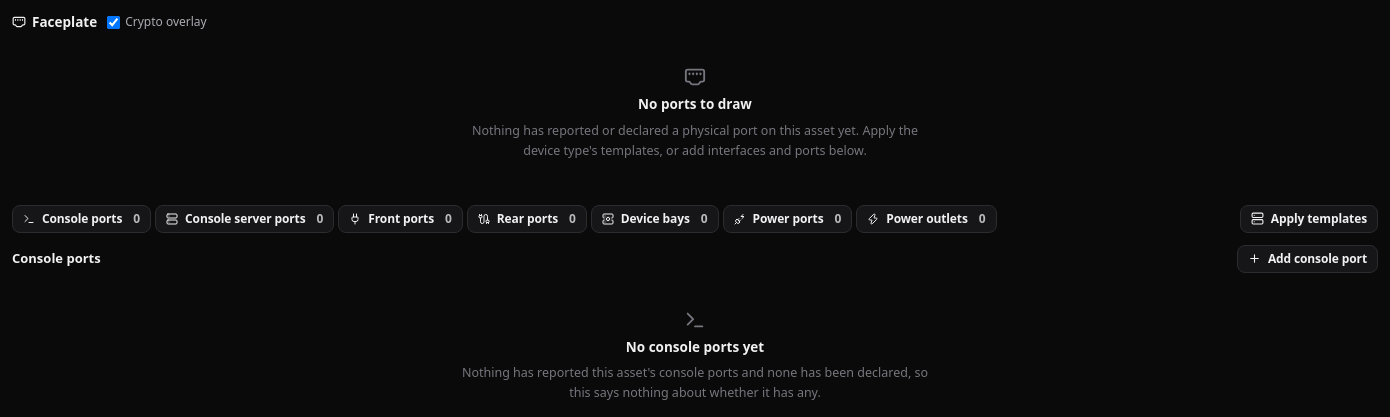
Scenario: Apply templates › shows the server reason when the apply fails
Click the button "Apply templates" at [1309, 218], box x1=1240 y1=204 x2=1378 y2=232
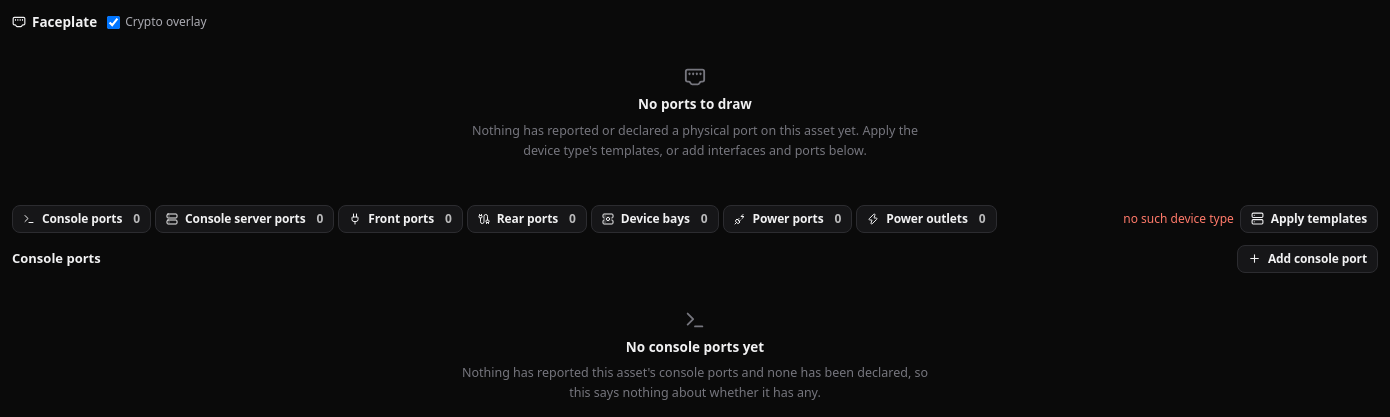
Now the message "no such device type" is shown, box x1=1123 y1=210 x2=1234 y2=228
